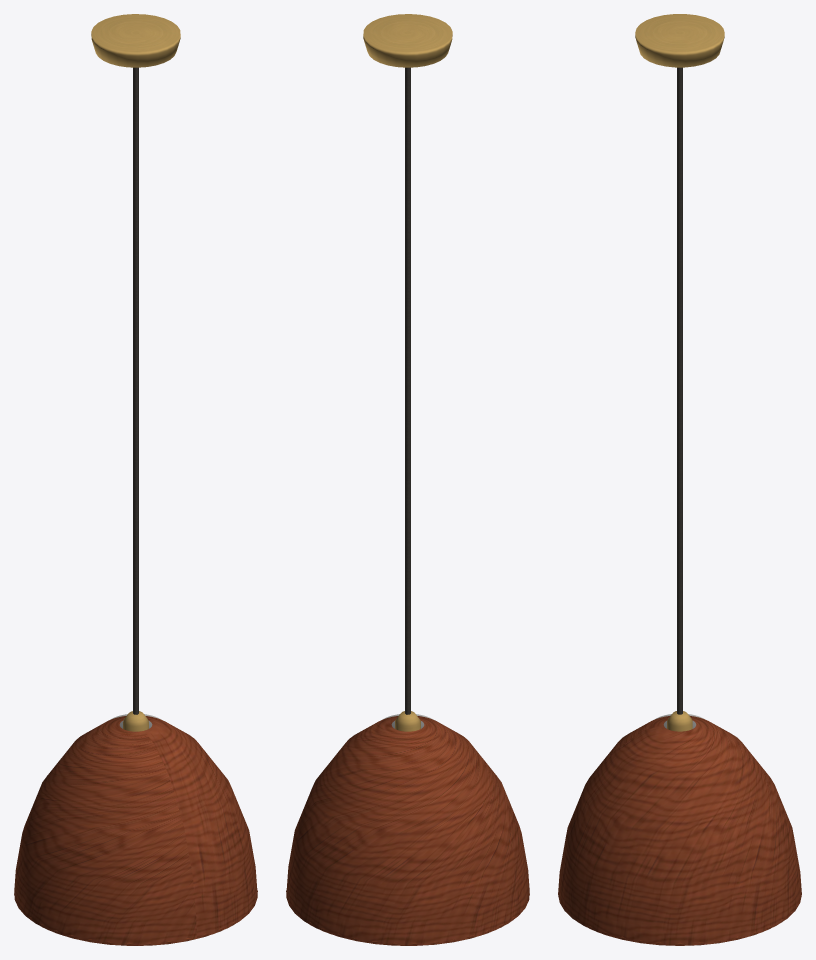
The model's file is objects-pendant.glb.
The picture shows the model from 3 angles, left to right: view 1: azimuth 30°, elevation 25°; view 2: azimuth 150°, elevation 25°; view 3: azimuth 270°, elevation 25°; orthographic projection.
Parts seen in each view (by area): view 1: shade_outer, ceiling_canopy, flex; view 2: shade_outer, ceiling_canopy, flex; view 3: shade_outer, ceiling_canopy, flex.
Boxes of the visible parts, x1=… form: shade_outer: x1=14, y1=716, x2=257, y2=945; ceiling_canopy: x1=91, y1=14, x2=180, y2=67; flex: x1=133, y1=67, x2=138, y2=714; shade_outer: x1=286, y1=716, x2=529, y2=945; ceiling_canopy: x1=363, y1=14, x2=452, y2=67; flex: x1=405, y1=67, x2=410, y2=714; shade_outer: x1=558, y1=715, x2=801, y2=945; ceiling_canopy: x1=635, y1=14, x2=724, y2=67; flex: x1=677, y1=67, x2=682, y2=714.
Bounding box in the file's own units: 0.3 × 1.17 × 0.3.
5 materials, 4 textured.
